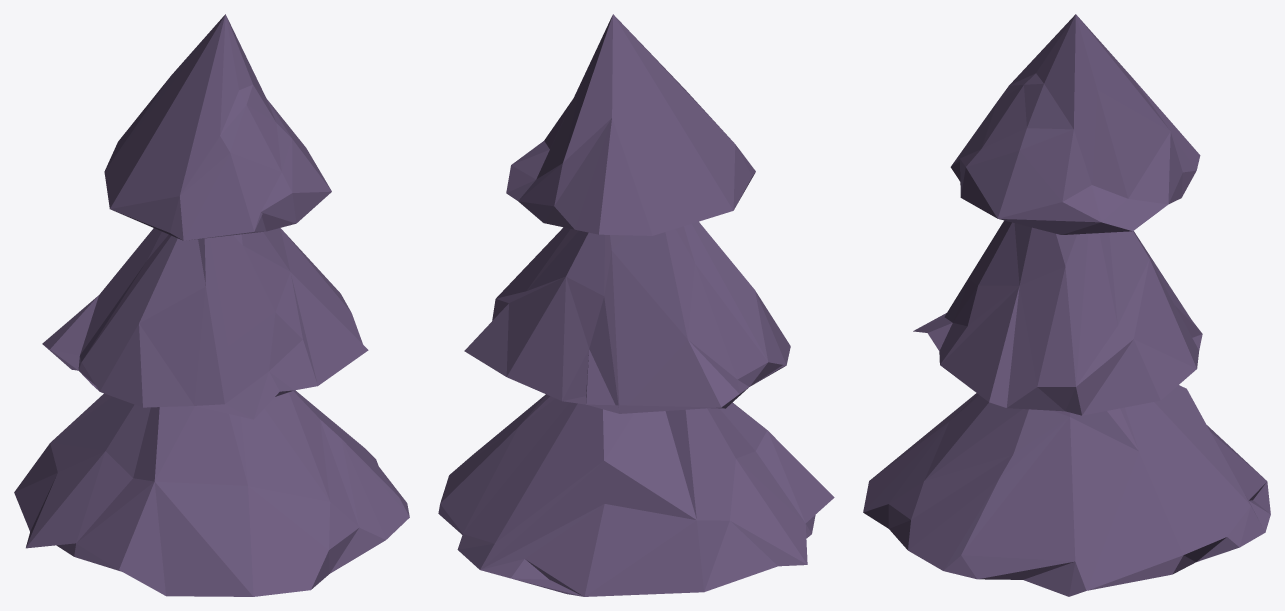
The model's file is Tree.fbx.
3 renders of one model, left to right at view 1: azimuth 30°, elevation 25°; view 2: azimuth 150°, elevation 25°; view 3: azimuth 270°, elevation 25°, orthographic. The views are drawn at different scales.
Visible parts, largest first — view 1: Tree1:pCylinder1; view 2: Tree1:pCylinder1; view 3: Tree1:pCylinder1.
Part boxes in pixels (x1=…): Tree1:pCylinder1: x1=14, y1=14, x2=409, y2=596; Tree1:pCylinder1: x1=438, y1=14, x2=834, y2=596; Tree1:pCylinder1: x1=863, y1=14, x2=1270, y2=596.
Bounding box in the file's own units: 1.98 × 2.95 × 1.94.
